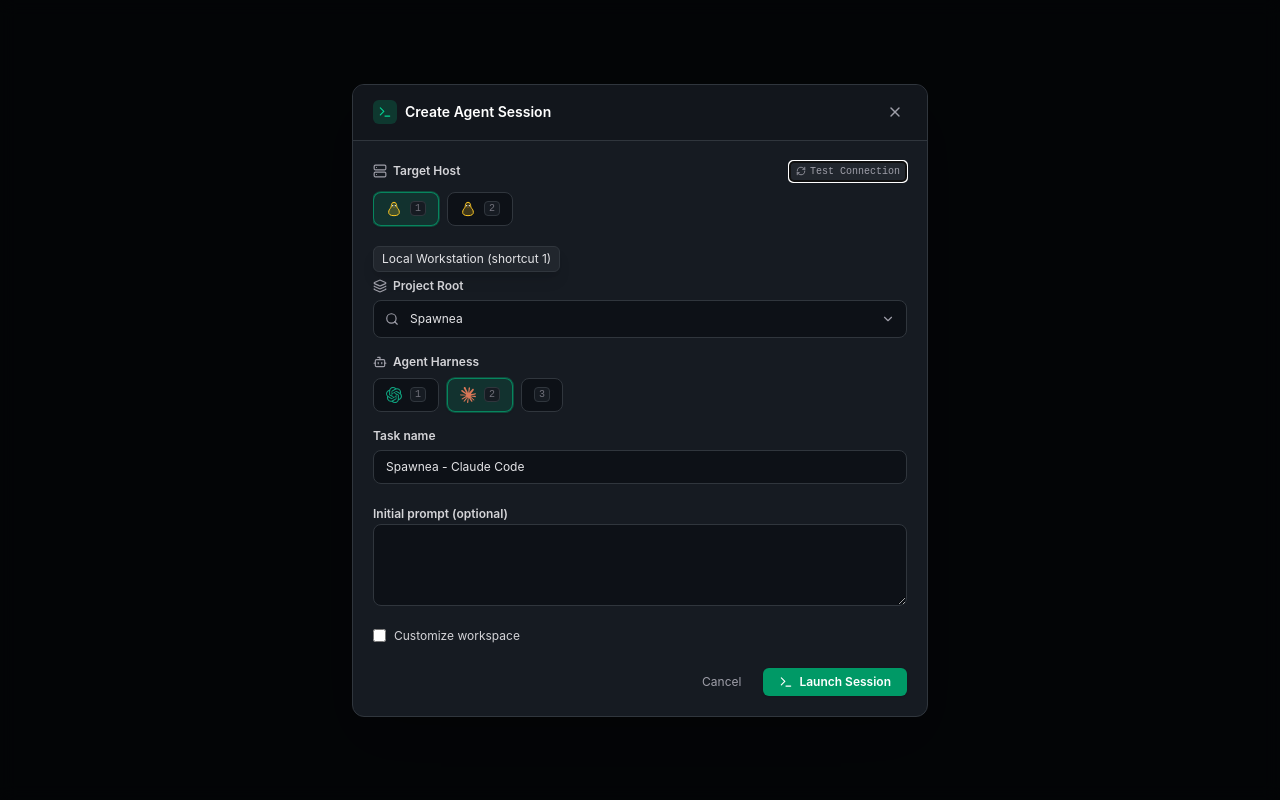
Test: CreateSessionModal › keeps connection test and retry buttons in the sequential keyboard focus order
The width and height of the screenshot is (1280, 800).
Click the button with test id "test-host-button". click: click(848, 171)
box: [789,160,907,182]
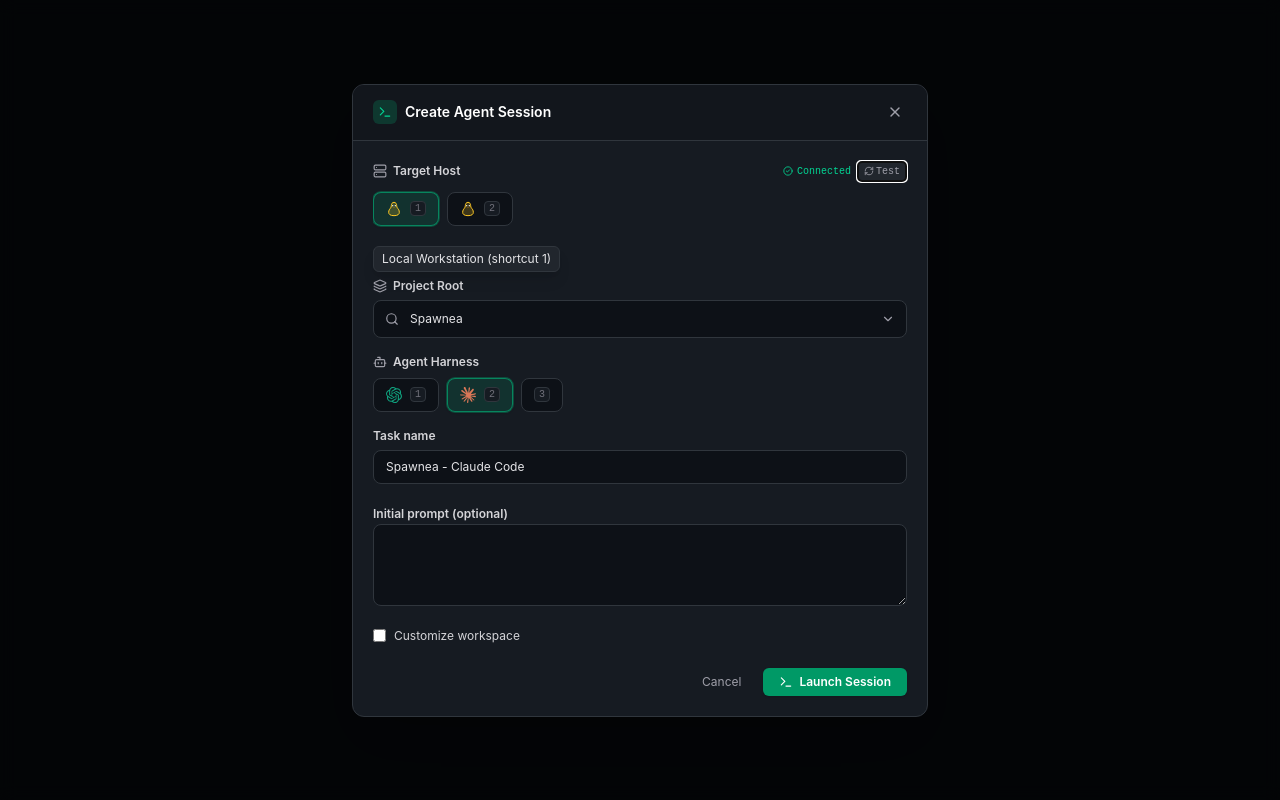
Expected: the element with test id "host-status-connected" is shown, [783,164,851,178]
Click the button with test id "test-host-button". click: click(882, 171)
box: [857,160,907,182]
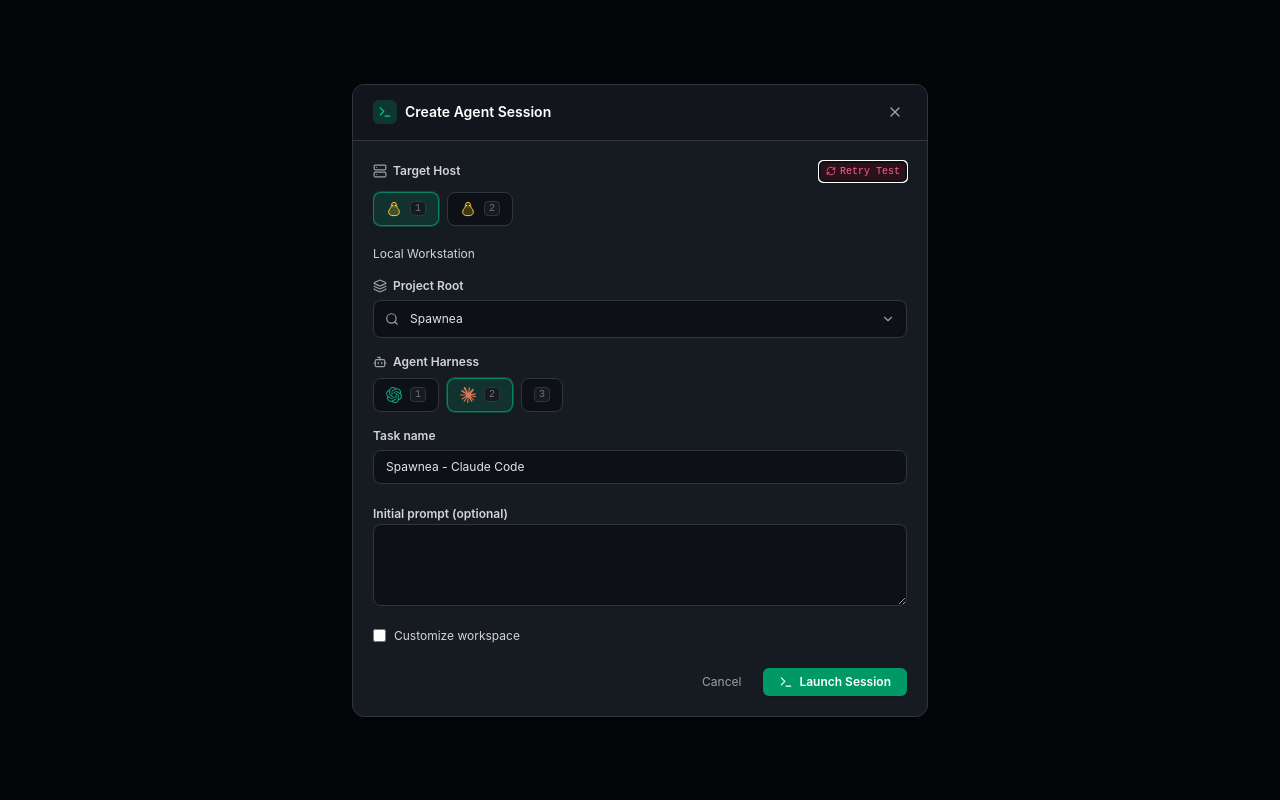
Expected: the button with test id "retry-host-test" is enabled, [819,160,907,182]
